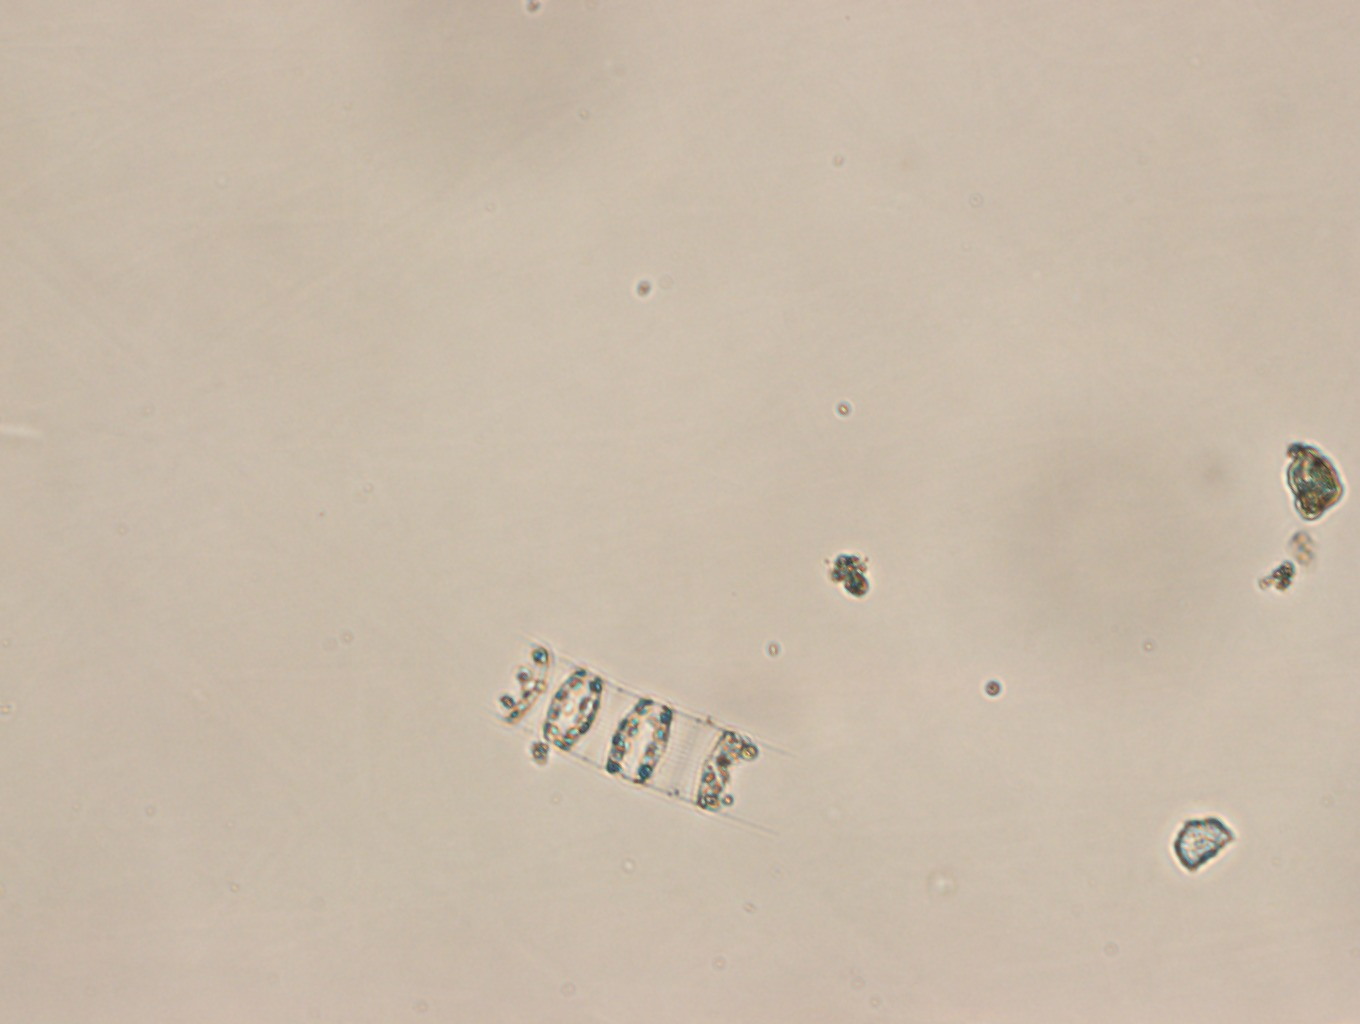skeletonema: (483, 624, 787, 835)
